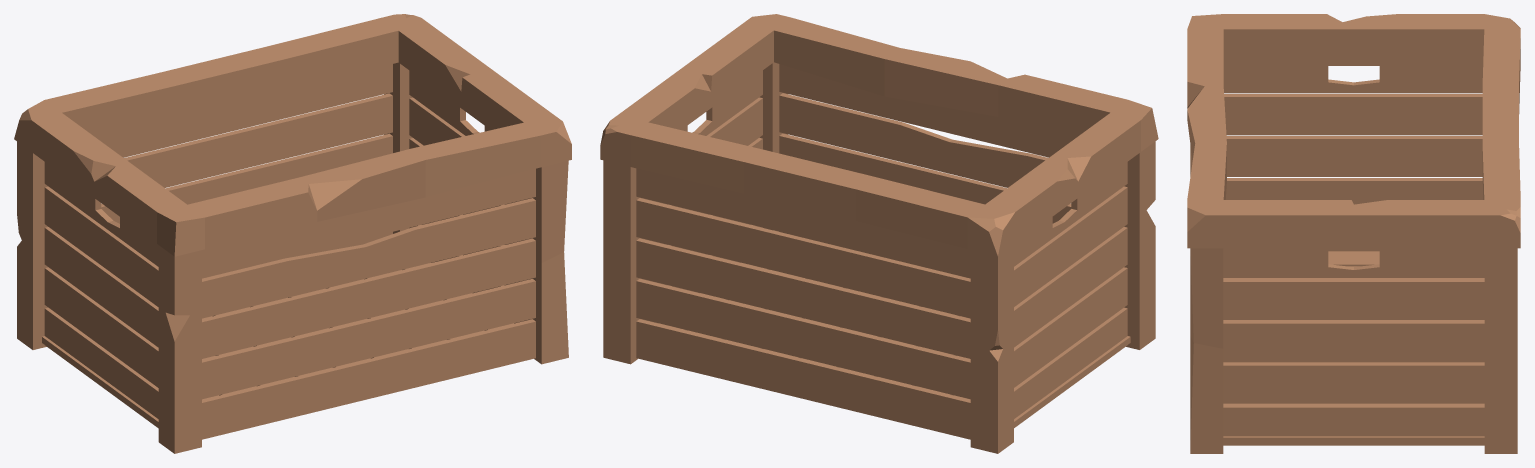
Rendered from KeranjangBuah.fbx.
3 views of the same model, side by side, from view 1: azimuth 30°, elevation 25°; view 2: azimuth 150°, elevation 25°; view 3: azimuth 270°, elevation 25° (orthographic). The views are drawn at different scales.
Parts seen in each view (by area): view 1: KeranjangBuah; view 2: KeranjangBuah; view 3: KeranjangBuah.
Part boxes in pixels (<box>): KeranjangBuah: <box>14,14,571,453</box>; KeranjangBuah: <box>600,14,1158,453</box>; KeranjangBuah: <box>1187,14,1520,453</box>.
Bounding box in the file's own units: 136 × 75.39 × 95.2.
